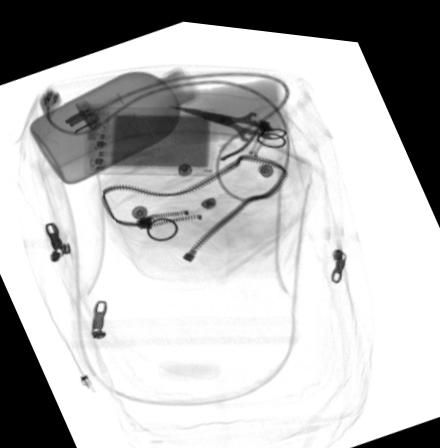Powerbank: (84, 101, 216, 172)
Scissors: (167, 90, 297, 154)
